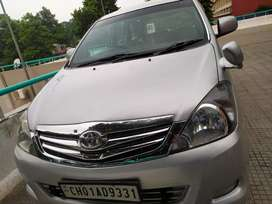CH01A09331: (59, 184, 140, 201)
